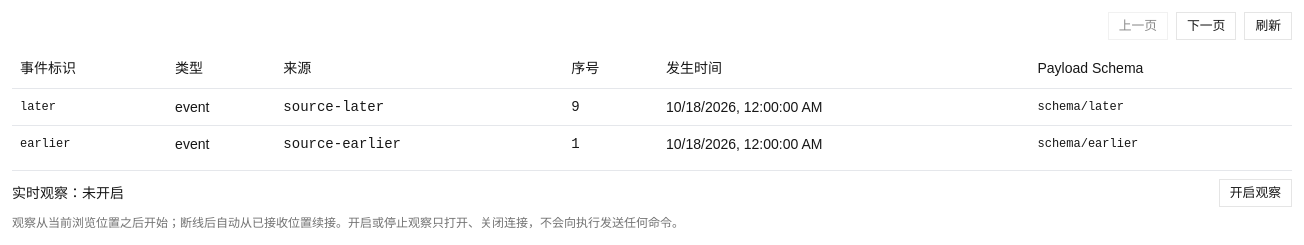
Test: RunEventsPanel pagination boundaries › preserves opaque cursor characters and server order across multiple pages
Expected: the text "later" is shown, 12,88 -> 167,125
Step 1. Click the button "下一页" → click(1206, 26), box 1176,12 -> 1236,40
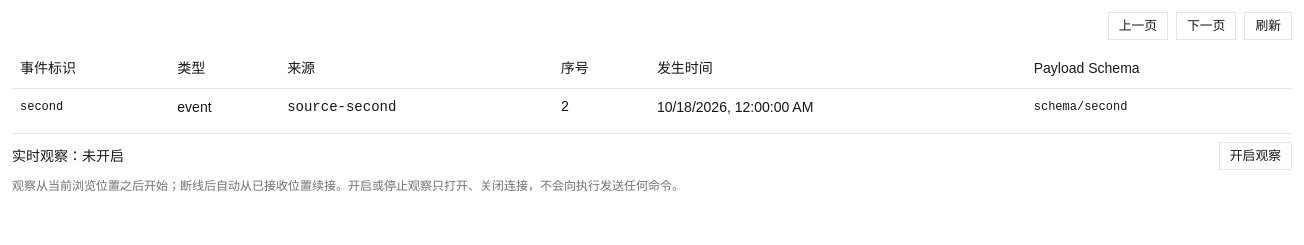
Expected: the text "second" is shown, 12,88 -> 169,124
Step 2. Click the button "下一页" → click(1206, 26), box 1176,12 -> 1236,40
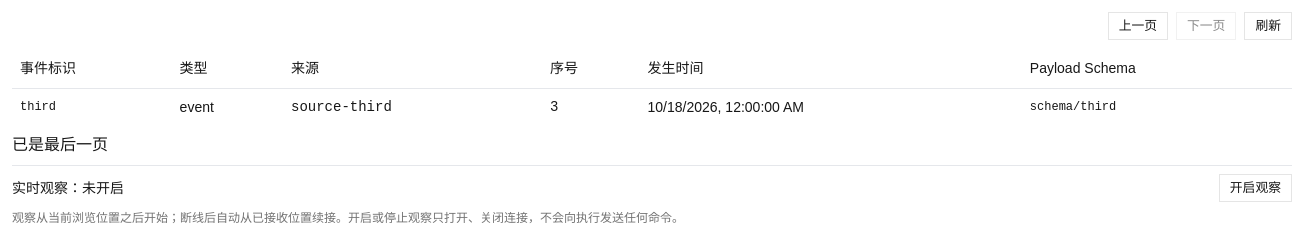
Expected: the text "third" is shown, 12,88 -> 172,124
Step 3. Click the button "上一页" → click(1138, 26), box 1108,12 -> 1168,40
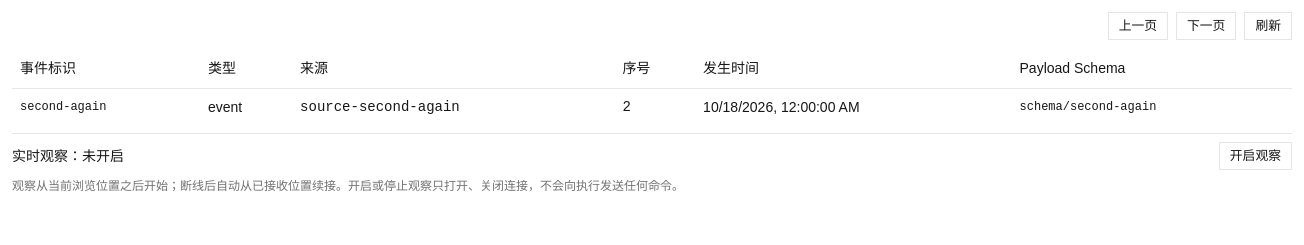
Expected: the text "second-again" is shown, 12,88 -> 200,124
